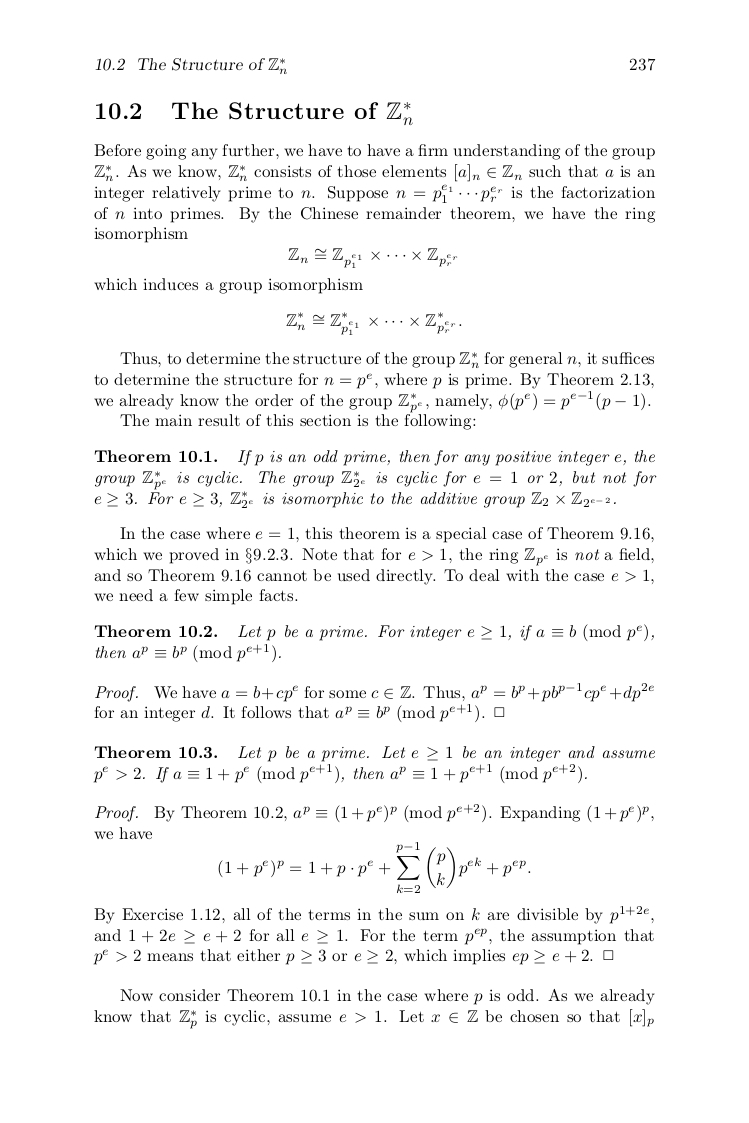formula: (218, 841, 530, 893), (286, 311, 461, 335), (288, 247, 457, 268)
